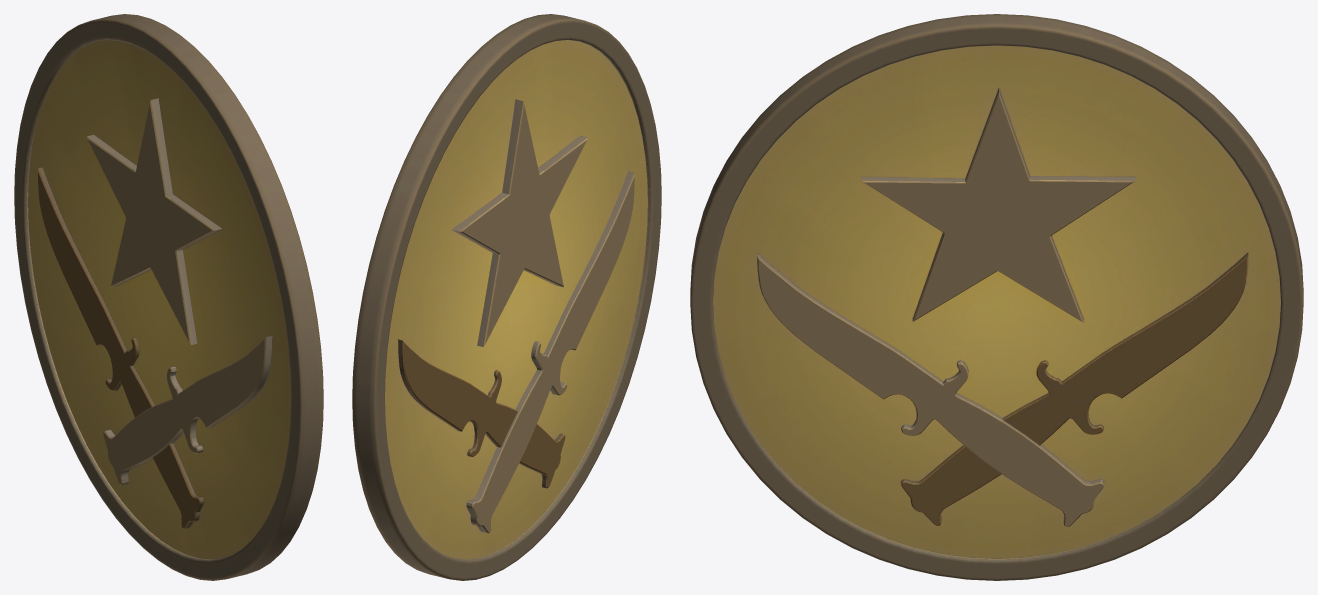
3 views of the same model, side by side, from view 1: azimuth 30°, elevation 25°; view 2: azimuth 150°, elevation 25°; view 3: azimuth 270°, elevation 25° (orthographic). The views are drawn at different scales.
Parts seen in each view (by area): view 1: T coin_0; view 2: T coin_0; view 3: T coin_0.
Part boxes in pixels (box(x1,y1,x2,y2)): T coin_0: box(14, 14, 323, 580); T coin_0: box(352, 14, 661, 580); T coin_0: box(690, 14, 1303, 580).
Size of the model in its own units: 0.0589 by 0.8012 by 0.8012.
Materials: 1 (1 with a texture image).
